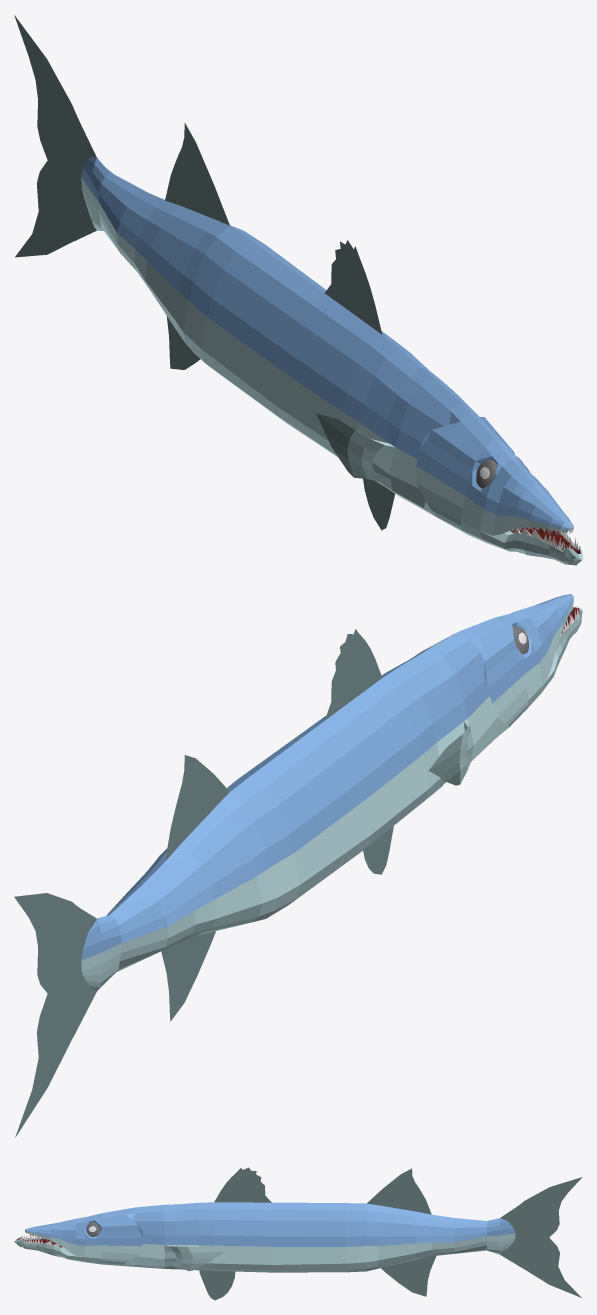
The model's file is barracuda.fbx.
The picture shows the model from 3 angles, top to bottom: view 1: azimuth 30°, elevation 25°; view 2: azimuth 150°, elevation 25°; view 3: azimuth 270°, elevation 25°; orthographic projection. The views are drawn at different scales.
Visible parts, largest first — view 1: Circle; view 2: Circle; view 3: Circle.
Part boxes in pixels (<box>): Circle: <box>14,15,582,565</box>; Circle: <box>14,594,582,1137</box>; Circle: <box>14,1167,582,1300</box>.
Size of the model in its own units: 148 by 329 by 1274.
